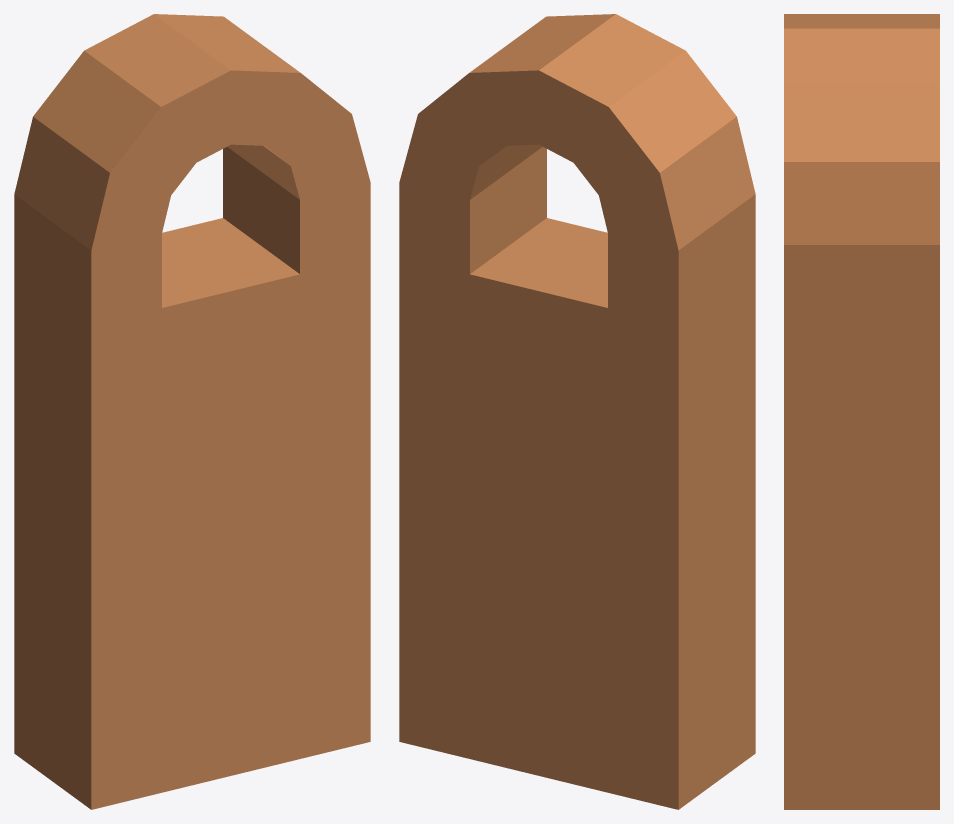
File: SM_Prop_RoofFence_02.glb
3 renders of one model, left to right at view 1: azimuth 30°, elevation 25°; view 2: azimuth 150°, elevation 25°; view 3: azimuth 270°, elevation 25°, orthographic.
Visible parts, largest first — view 1: SM_Prop_RoofFence_02_part00; view 2: SM_Prop_RoofFence_02_part00; view 3: SM_Prop_RoofFence_02_part00.
Part boxes in pixels (<box>): SM_Prop_RoofFence_02_part00: <box>14,14,370,809</box>; SM_Prop_RoofFence_02_part00: <box>399,14,755,809</box>; SM_Prop_RoofFence_02_part00: <box>784,14,939,809</box>.
Bounding box in the file's own units: 0.5581 × 1.35 × 0.2668.
1 material, 1 textured.
